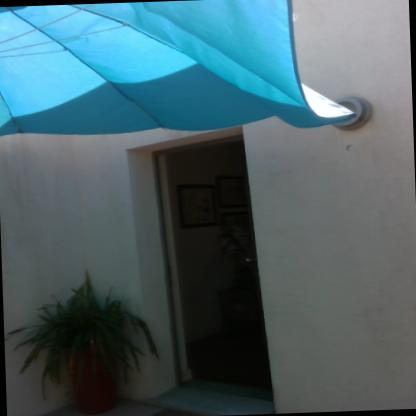open: (130, 127, 280, 414)
